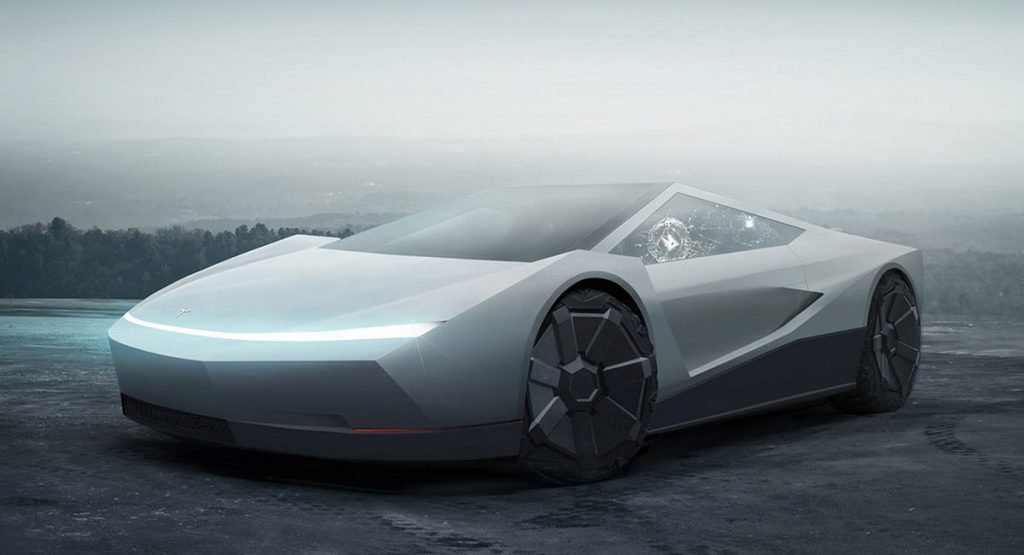car: (105, 173, 937, 474)
